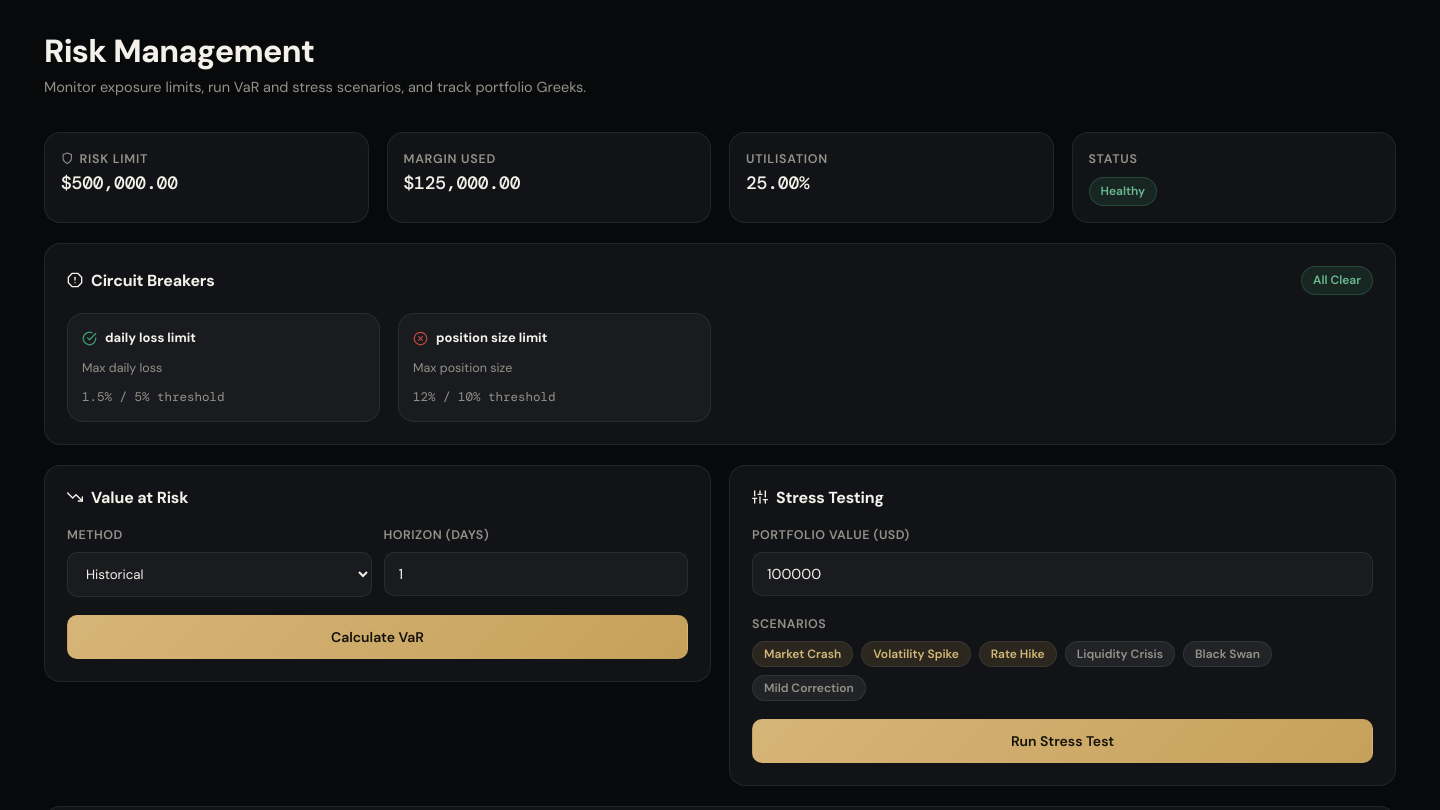
Stress testing › disables running when every scenario is deselected
Check: the heading "Circuit Breakers" is shown, box [67, 271, 215, 290]
Click the button "market crash": coordinates (803, 654) [752, 641, 853, 667]
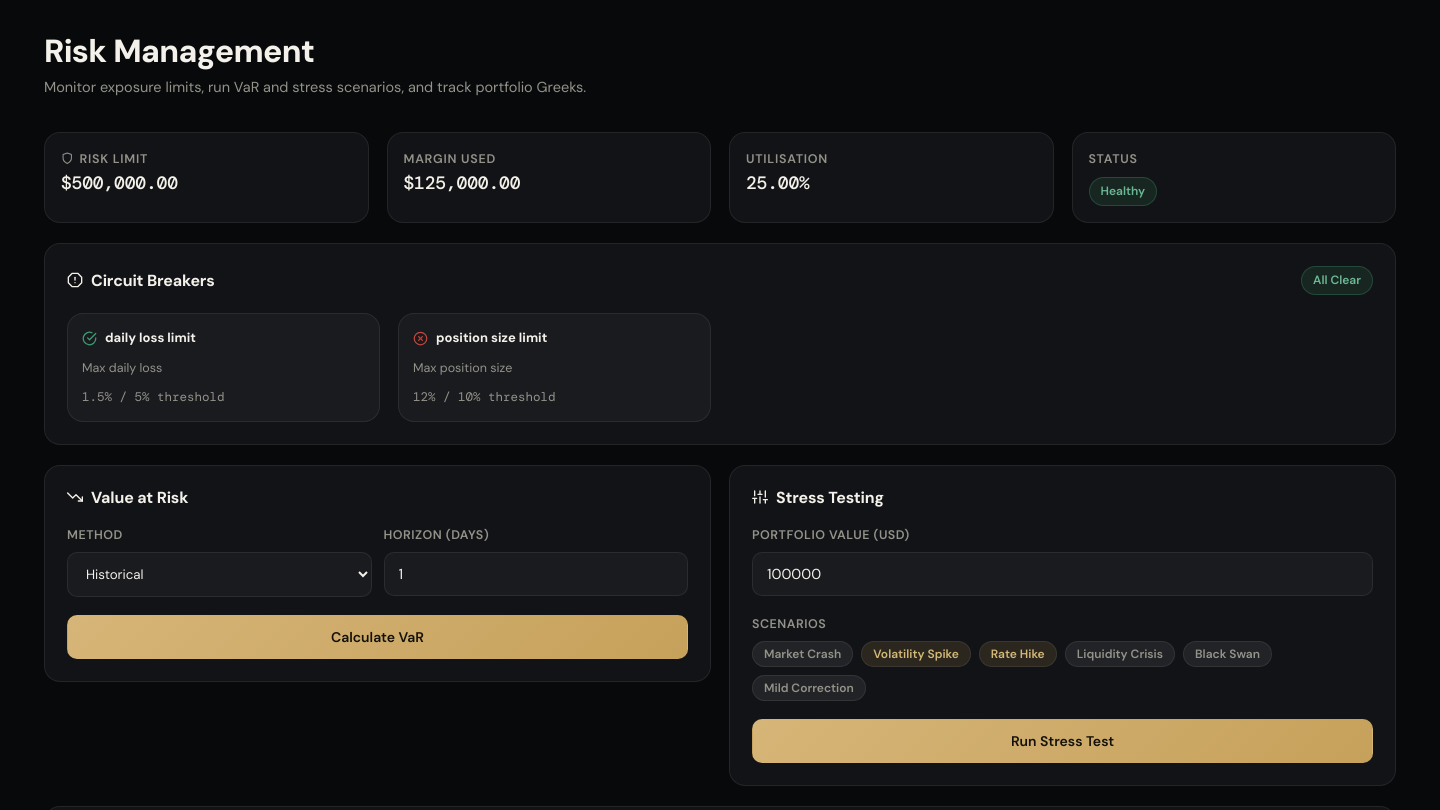
Click the button "volatility spike": coordinates (916, 654) [861, 641, 971, 667]
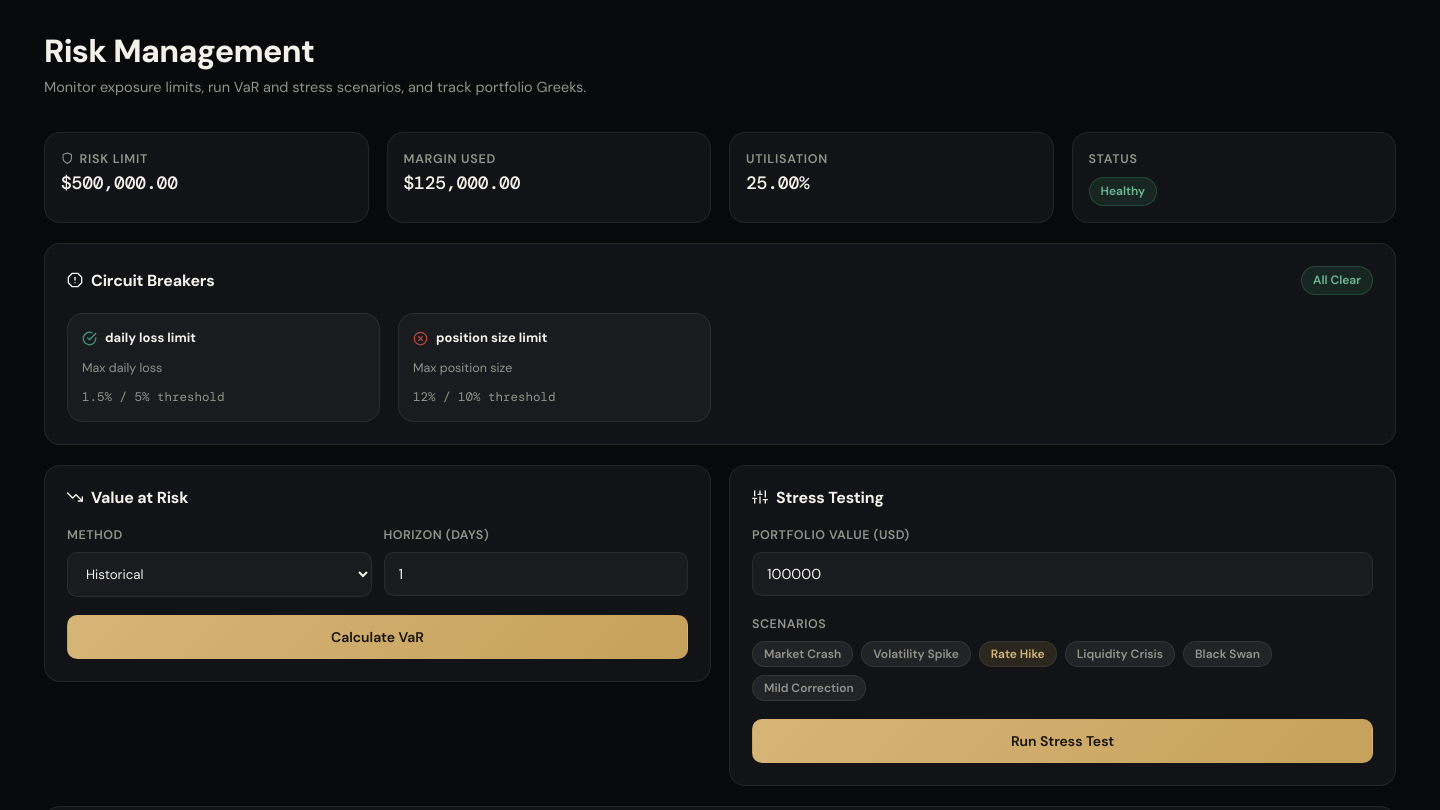
Click the button "rate hike": coordinates (1018, 654) [979, 641, 1057, 667]
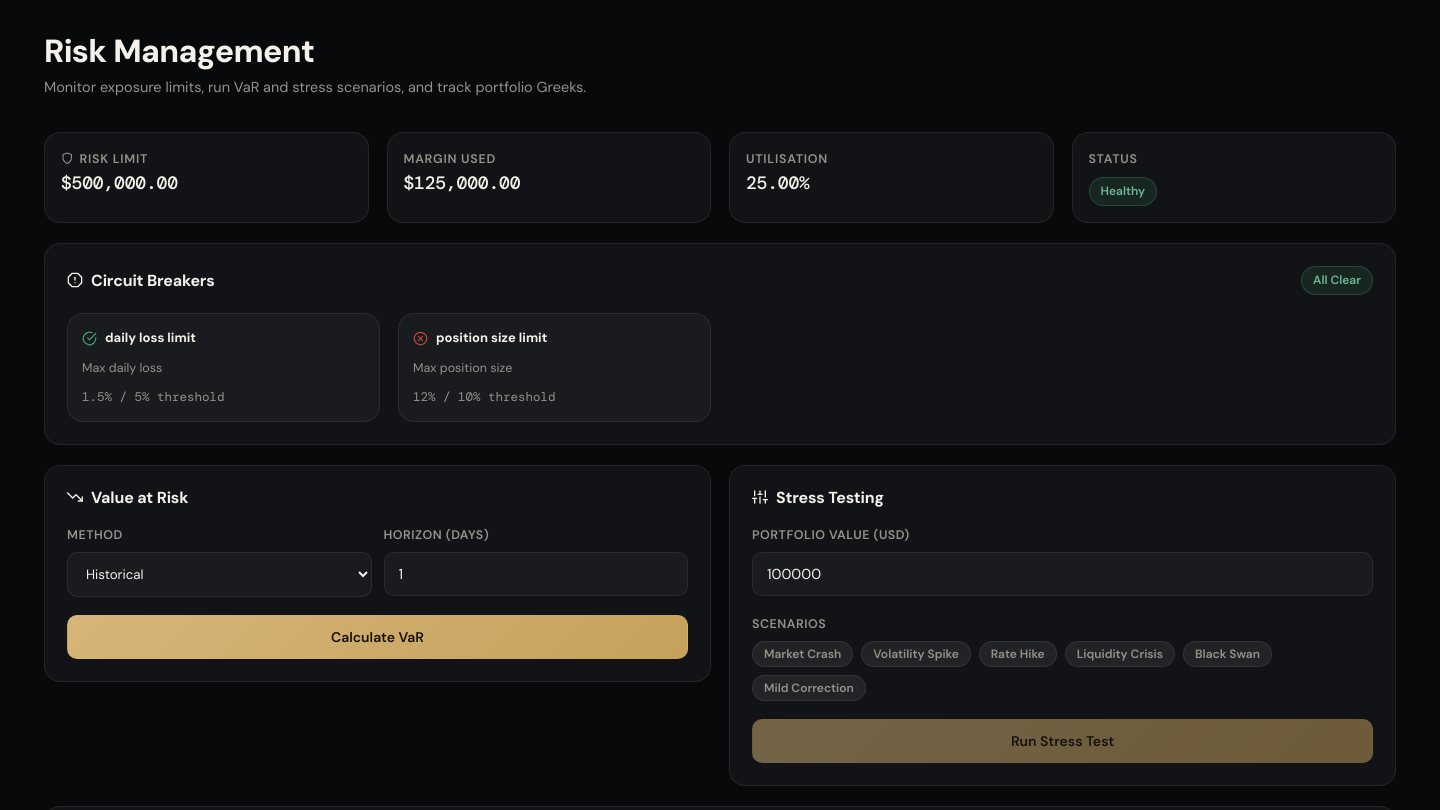
Check: the button "Run Stress Test" is disabled, box [752, 719, 1373, 763]
